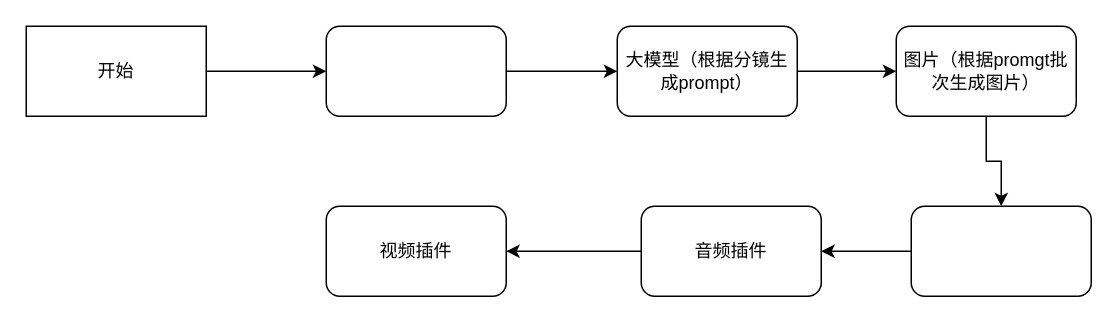
Some shapes in this 1118 by 323 pixel diagram are drawn without their labels. The centre of each missing label's shape, as x and y in pixels:
"填充画板" goes at (x=1000, y=250).
"大模型（根据用户输入的信息进行生成故事大纲以及分镜）" goes at (x=415, y=70).
